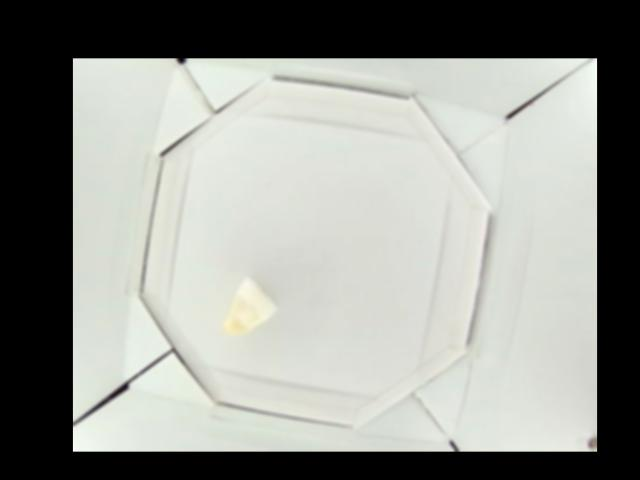Mooli: (223, 278, 276, 336)
